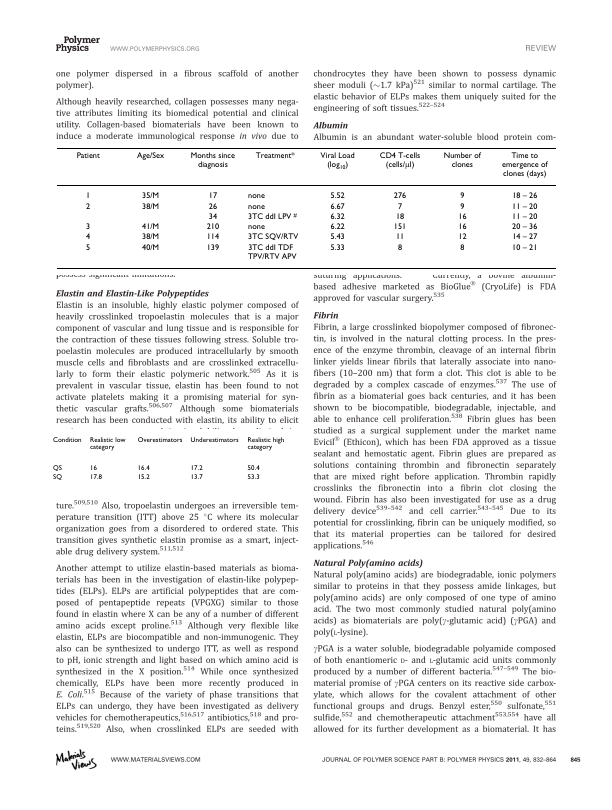borderless: (56, 146, 556, 268), (47, 434, 287, 492)
cell: (500, 150, 548, 179), (247, 242, 297, 261), (378, 149, 421, 171), (189, 150, 235, 169), (319, 150, 355, 171), (442, 150, 481, 169), (246, 436, 285, 452), (88, 436, 126, 452), (247, 232, 299, 242), (247, 211, 297, 221), (189, 436, 239, 445), (136, 436, 183, 445), (254, 150, 295, 160), (135, 150, 165, 160), (511, 191, 538, 201), (511, 201, 538, 211), (511, 222, 538, 232), (511, 232, 538, 242), (511, 242, 538, 252), (52, 436, 82, 445), (75, 150, 100, 160), (511, 212, 538, 221), (141, 191, 160, 201), (141, 201, 160, 211), (141, 222, 160, 232), (141, 232, 160, 242), (141, 242, 160, 252), (247, 191, 265, 201), (247, 201, 265, 211), (247, 222, 265, 232), (329, 191, 345, 201), (329, 201, 345, 211), (329, 222, 345, 232), (329, 232, 345, 242), (329, 242, 345, 252), (392, 191, 407, 201), (205, 222, 220, 232), (392, 222, 407, 232), (205, 232, 220, 242), (205, 242, 220, 252), (329, 212, 345, 221), (136, 464, 150, 473), (189, 464, 203, 473), (246, 464, 260, 473), (88, 473, 102, 482), (136, 473, 150, 482), (189, 473, 203, 482), (246, 473, 260, 482), (207, 191, 218, 201), (207, 201, 218, 211), (394, 232, 405, 242), (457, 222, 467, 232), (457, 232, 467, 242), (207, 212, 218, 221), (394, 212, 405, 221), (457, 212, 467, 221), (52, 464, 62, 473), (52, 473, 62, 482), (88, 464, 97, 473), (396, 201, 403, 211), (396, 242, 403, 252), (85, 191, 91, 201), (459, 191, 465, 201), (85, 201, 91, 211), (459, 201, 465, 211), (85, 222, 91, 232), (85, 232, 91, 242), (85, 242, 91, 252), (459, 242, 465, 252)
